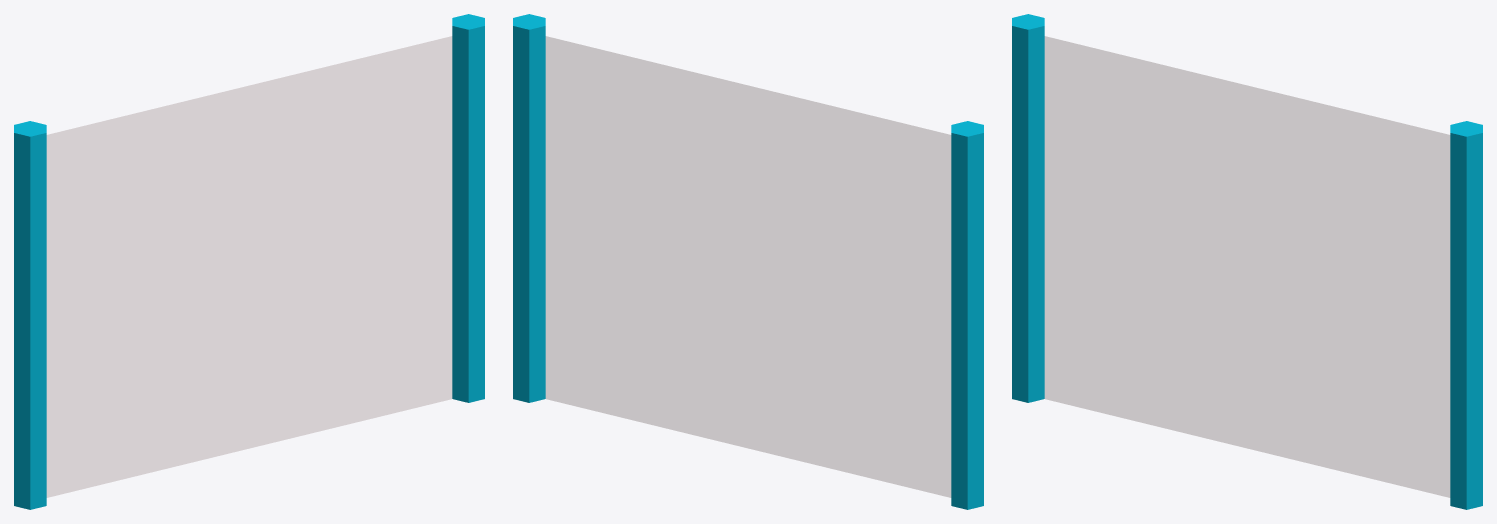
3 renders of one model, left to right at view 1: azimuth 30°, elevation 25°; view 2: azimuth 150°, elevation 25°; view 3: azimuth 330°, elevation 25°, orthographic.
Parts seen in each view (by area): view 1: pPlane2; view 2: pPlane2; view 3: pPlane2.
Boxes of the visible parts, x1=… form: pPlane2: x1=14, y1=14, x2=484, y2=509; pPlane2: x1=513, y1=14, x2=983, y2=509; pPlane2: x1=1012, y1=14, x2=1482, y2=509.
Bounding box in the file's own units: 253 × 192 × 15.12.
